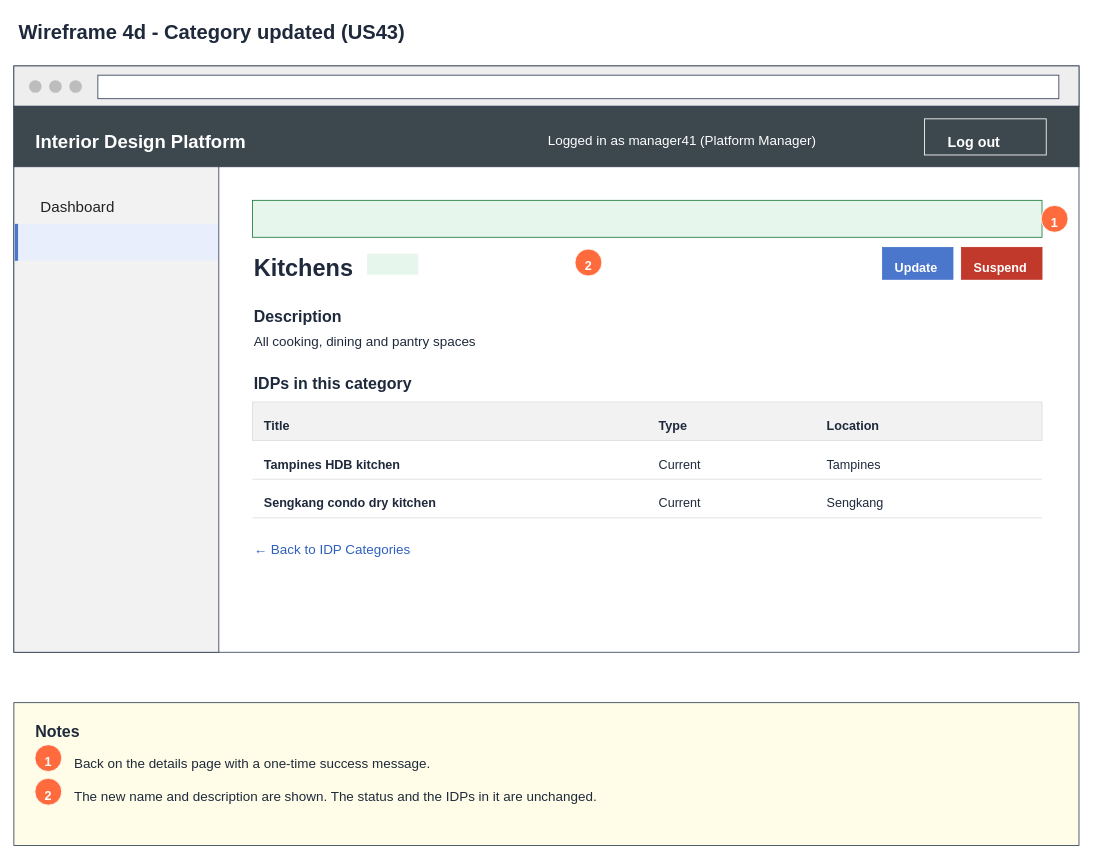
Image size: 1093x859. Some labels were removed from this diagram. Here are the shapes that lost their labels. From the top down, the box of each, then its label:
(97, 74, 1059, 99): localhost:5000/manager/categories/2
(252, 200, 1042, 237): ✓ IDP category updated successfully
(14, 223, 218, 260): IDP Categories
(367, 253, 418, 274): Active
